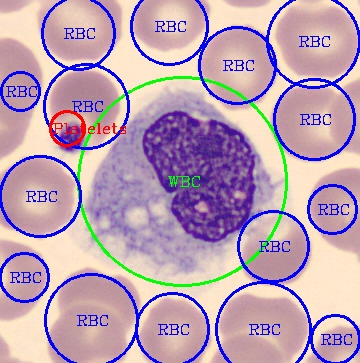Platelets: (52, 118, 88, 157)
RBC: (195, 23, 279, 113), (216, 290, 311, 359), (275, 2, 359, 80), (0, 154, 76, 239), (47, 67, 122, 149), (269, 84, 345, 164), (239, 208, 313, 288), (55, 264, 144, 329), (36, 0, 124, 63), (136, 295, 211, 362), (45, 303, 130, 361), (306, 165, 358, 256), (129, 0, 212, 53), (0, 237, 49, 322), (0, 35, 43, 109)
WBC: (84, 82, 282, 282)
